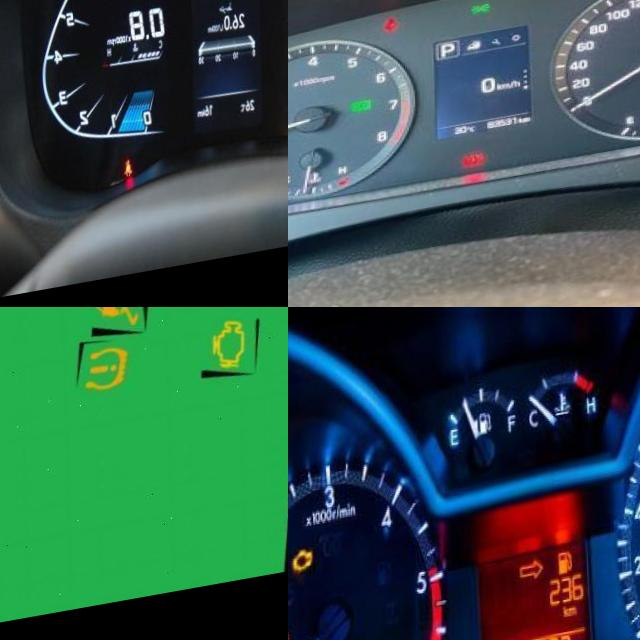Seat Belt: (120, 167, 130, 187)
